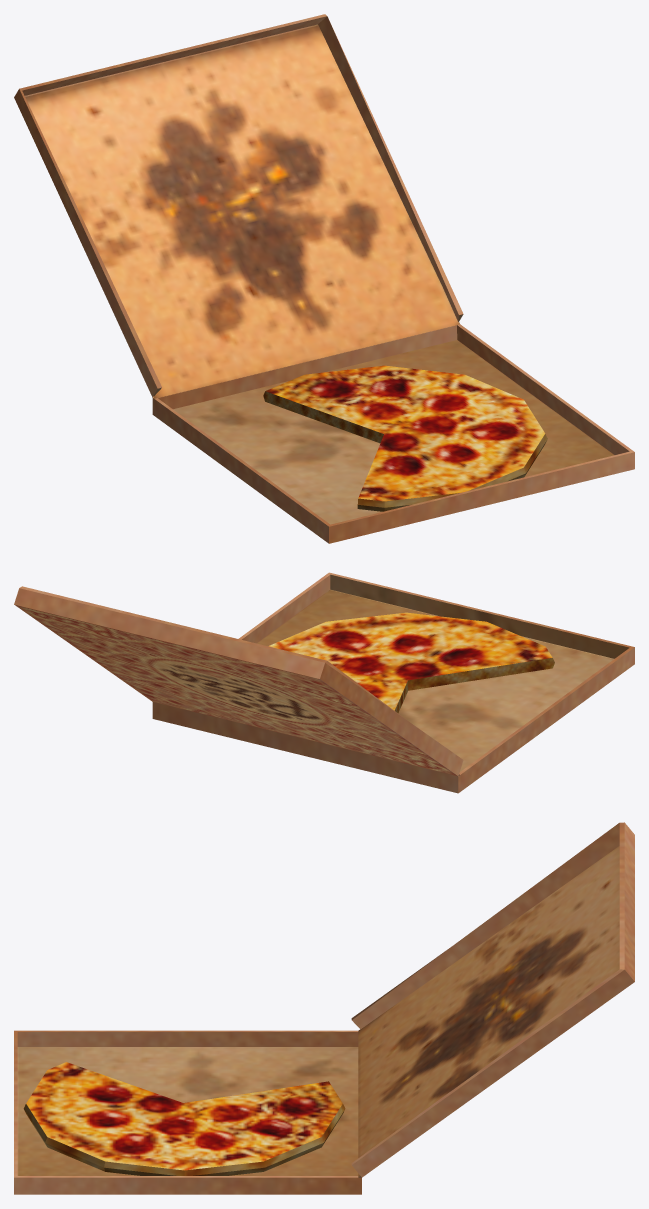
Rendered from pizza_quarter_eaten.glb.
3 renders of one model, top to bottom at view 1: azimuth 30°, elevation 25°; view 2: azimuth 150°, elevation 25°; view 3: azimuth 270°, elevation 25°, orthographic.
Visible parts, largest first — view 1: pizza quarter eaten; view 2: pizza quarter eaten; view 3: pizza quarter eaten.
Part boxes in pixels (x1,y1,x2,y2): pizza quarter eaten: (14,14,634,543); pizza quarter eaten: (14,572,634,793); pizza quarter eaten: (14,822,634,1194).
Bounding box in the file's own units: 0.5276 × 0.3762 × 0.9413.
2 materials, 2 textured.
